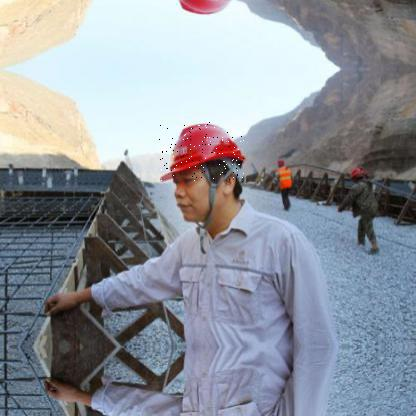safetyhelmet: (156, 122, 245, 182)
